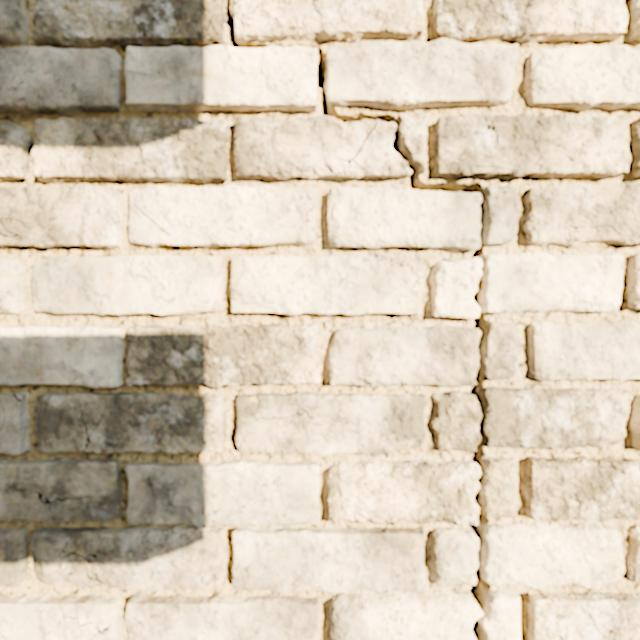broken_brick: (430, 252, 623, 318), (234, 116, 411, 180), (326, 459, 479, 525), (328, 187, 481, 250), (483, 521, 624, 589), (327, 325, 479, 386), (481, 387, 629, 449), (330, 593, 481, 639), (431, 390, 481, 451), (431, 527, 477, 587), (481, 456, 520, 517), (485, 322, 521, 380), (483, 185, 518, 244), (482, 588, 520, 639), (397, 112, 426, 174)
crack: (0, 0, 627, 258), (0, 459, 428, 594), (0, 116, 228, 184), (432, 113, 639, 179), (126, 323, 321, 388), (235, 391, 425, 456), (35, 390, 226, 454), (230, 253, 423, 316), (128, 185, 317, 247), (30, 255, 222, 315), (125, 592, 320, 639), (467, 258, 490, 639), (0, 458, 122, 522), (0, 186, 123, 248), (0, 326, 125, 387), (524, 456, 639, 521), (524, 45, 639, 110), (524, 182, 639, 246), (528, 319, 639, 381), (0, 594, 122, 639), (528, 591, 639, 639), (0, 393, 30, 454), (0, 257, 26, 314), (0, 0, 29, 44), (626, 524, 639, 583), (627, 253, 639, 309), (630, 395, 639, 449), (629, 0, 639, 41), (328, 234, 345, 246), (411, 384, 434, 385), (396, 245, 408, 246)
